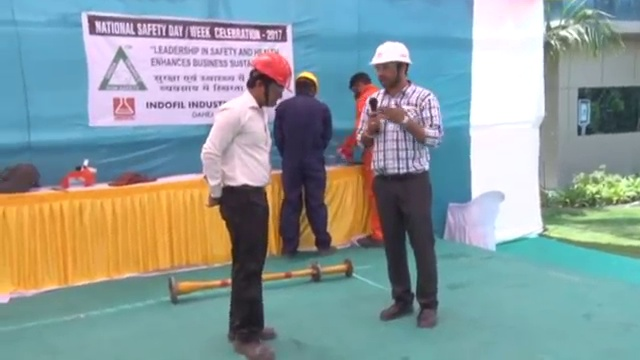helmet: (250, 50, 294, 92), (368, 40, 413, 68), (295, 70, 320, 92)
helmet_off: (349, 73, 374, 98)
helmet_on: (245, 51, 293, 116), (367, 40, 415, 98), (292, 69, 322, 99)
person: (200, 51, 294, 357), (357, 40, 443, 330), (275, 70, 336, 259), (341, 73, 387, 246)
